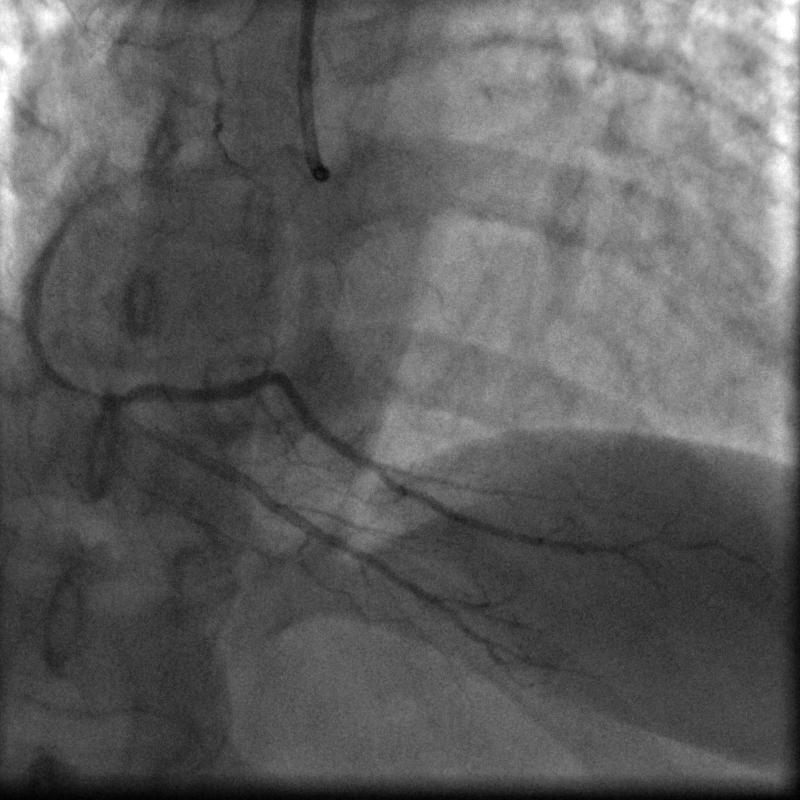Stenosis: (79, 380, 115, 415)
